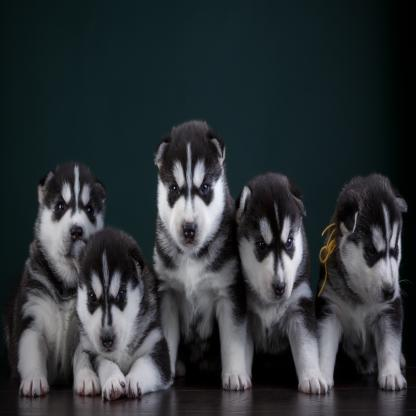dog: (156, 118, 252, 396), (234, 163, 322, 396), (17, 163, 104, 393), (318, 176, 409, 390), (73, 229, 170, 399)
